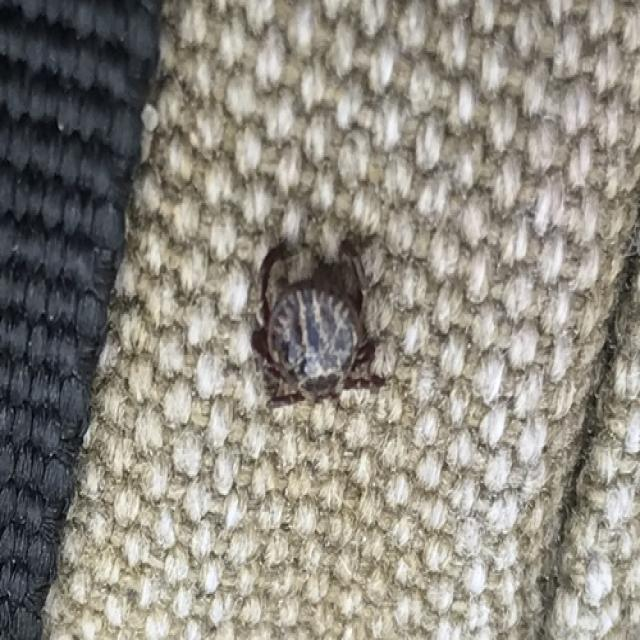Dermacentor Reticulatus-M: (252, 256, 375, 399)
